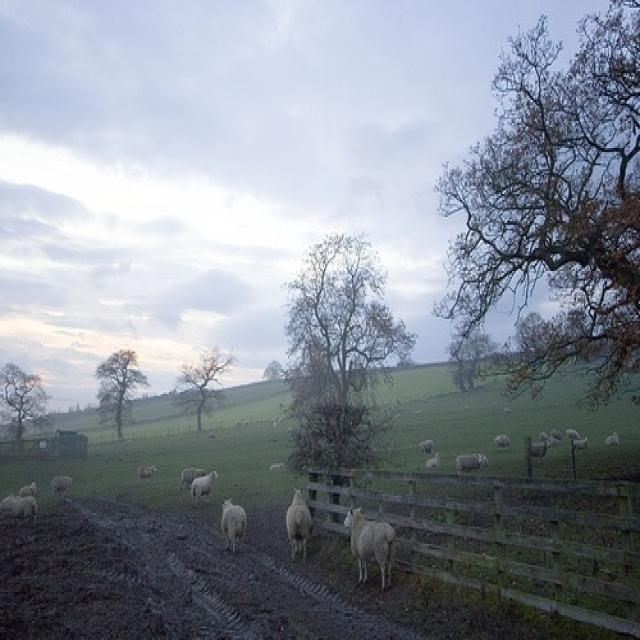sheep: (343, 502, 398, 596), (283, 482, 315, 569), (214, 494, 252, 557), (4, 488, 41, 525), (191, 465, 220, 511), (47, 471, 77, 500), (453, 448, 485, 475), (528, 436, 550, 463), (18, 474, 38, 502), (136, 460, 158, 484), (603, 426, 621, 454), (571, 434, 591, 456), (182, 469, 204, 488), (493, 431, 511, 454), (414, 434, 432, 456)
